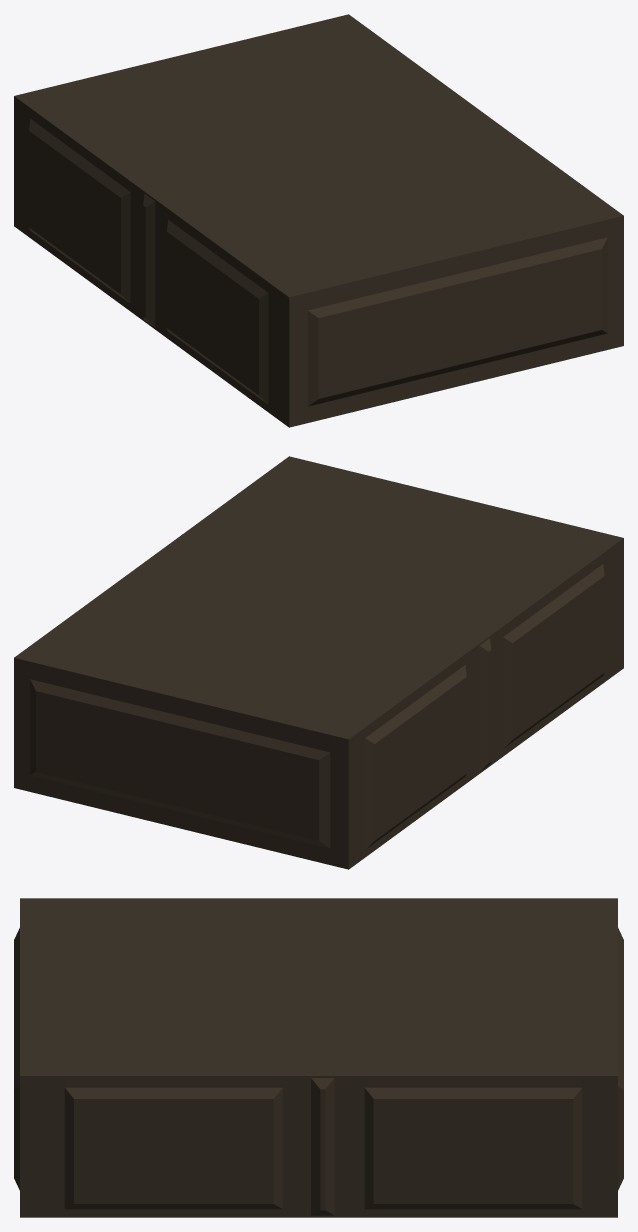
Rendered from Itr_Bed_Double_Body_01.FBX.
3 renders of one model, top to bottom at view 1: azimuth 30°, elevation 25°; view 2: azimuth 150°, elevation 25°; view 3: azimuth 270°, elevation 25°, orthographic. The views are drawn at different scales.
Parts seen in each view (by area): view 1: Itr_Bed_Double_Body_01; view 2: Itr_Bed_Double_Body_01; view 3: Itr_Bed_Double_Body_01.
Part boxes in pixels (<box>): Itr_Bed_Double_Body_01: <box>14,14,623,427</box>; Itr_Bed_Double_Body_01: <box>14,456,623,869</box>; Itr_Bed_Double_Body_01: <box>14,898,623,1217</box>.
Size of the model in its own units: 65.62 by 23.62 by 92.26.
